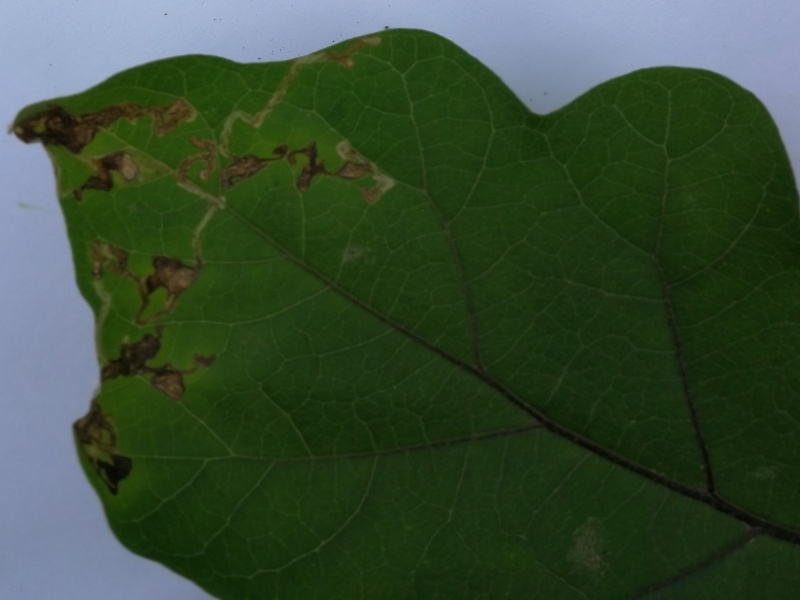leafminer: (216, 19, 392, 184), (15, 87, 203, 157), (77, 233, 215, 323), (95, 321, 219, 391), (284, 137, 399, 211), (168, 133, 229, 262), (73, 392, 136, 513), (57, 141, 148, 212)
